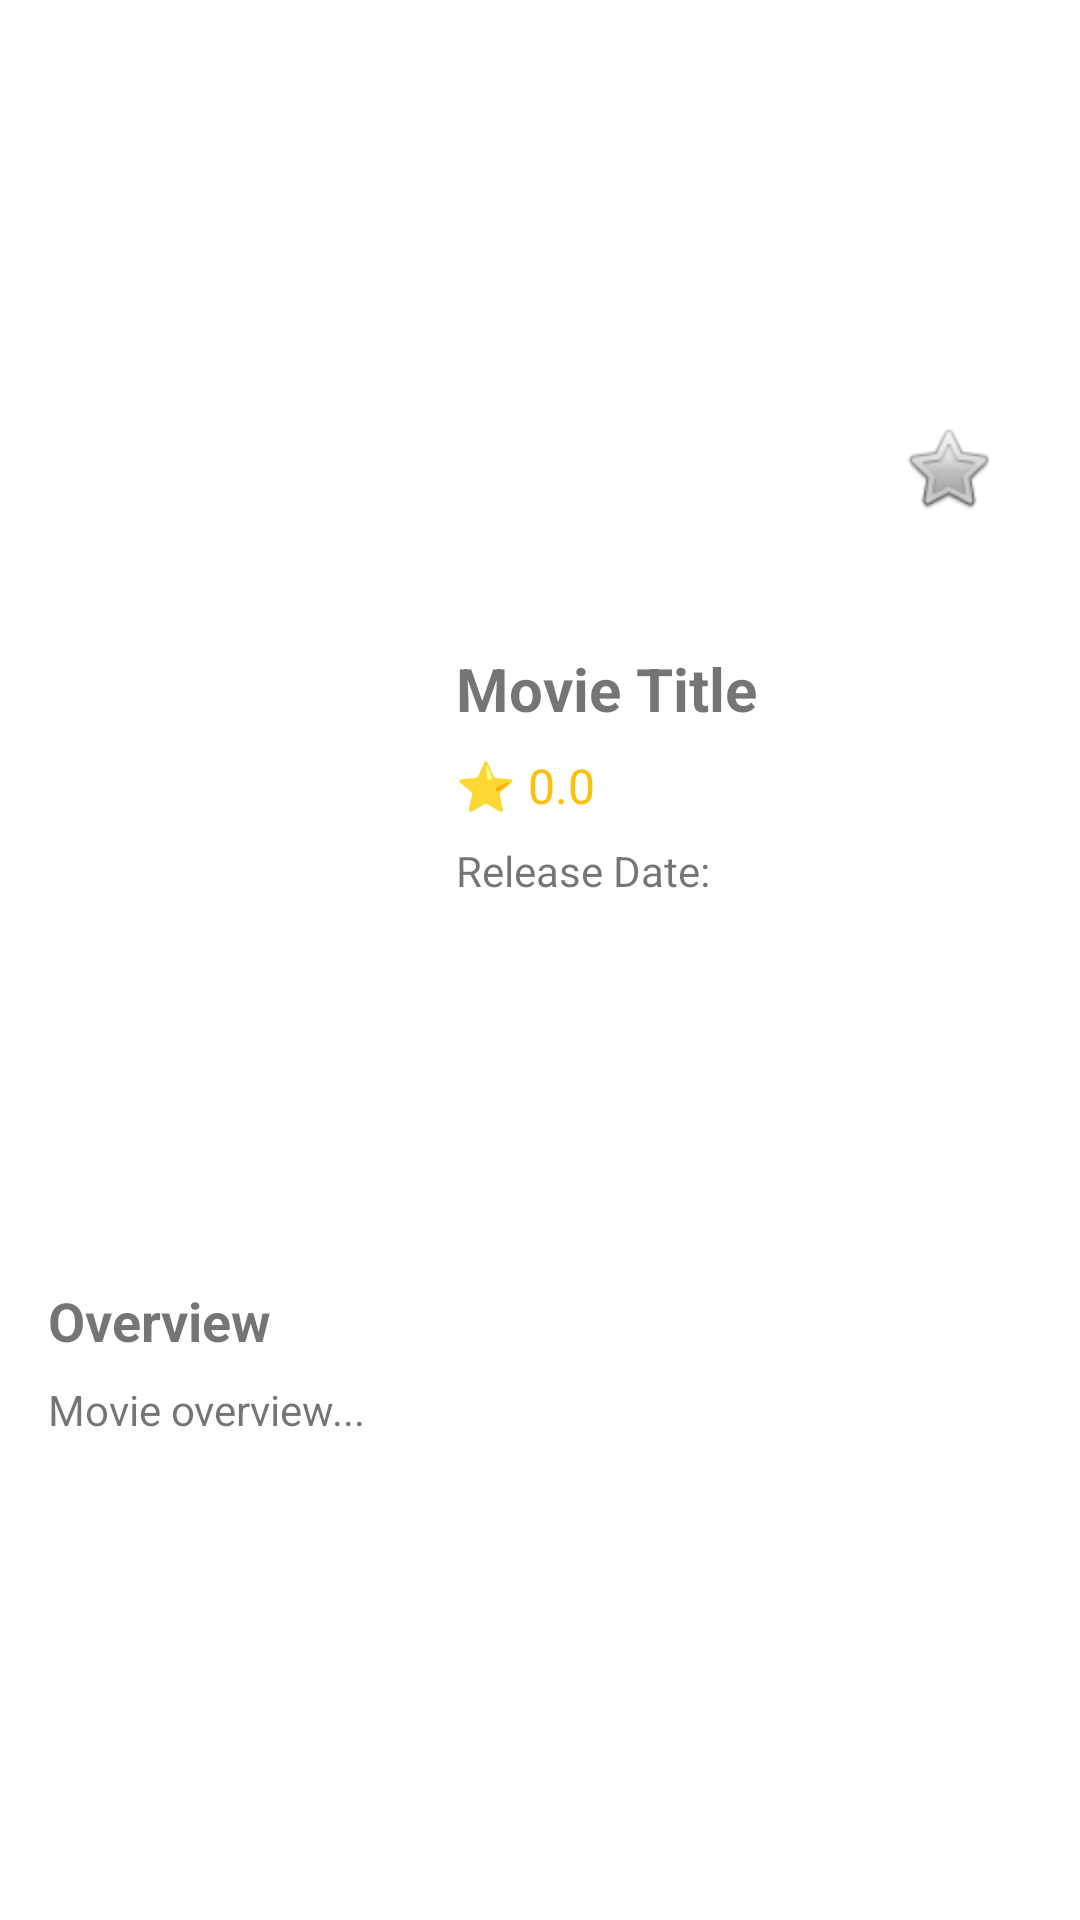

Icons on this 1080 x 1920 Android screen, each with its box as (x1, y1, x2, y2):
Favorite Button: (909, 430, 989, 508)
